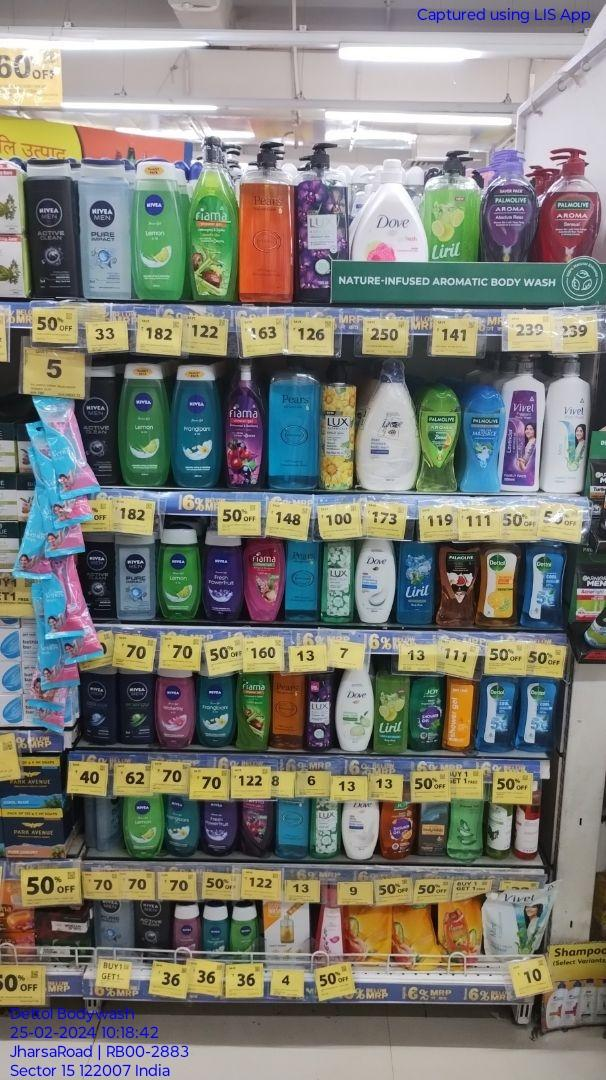Dettol_Bodywash_Cool: (522, 542, 568, 631), (519, 676, 559, 752), (477, 678, 514, 751)
Dettol_Bodywash_Refresh: (477, 541, 517, 627)
Dove_Deep_Moisture_Body_Wash_250ML: (357, 539, 396, 625)
Dove_Refreshing_Body_Wash_250ML: (336, 669, 374, 751)
Fiama_Shower_Gel_Patchouli_and_Macadamia_250ML: (246, 538, 282, 622)
Joy_Shower_Gel_Mint_and_Eucalyptus_250ML: (412, 674, 442, 751)
Liril_Cooling_Mint_Body_Wash_250ML: (399, 543, 435, 624)
Liril_Lime_and_Tea_Tree_Oil_Body_Wash_250ML: (376, 668, 408, 754)
Lux_Black_Orchid_Scent_and_Juniper_Oil_Body_Wash_245ML: (309, 675, 334, 751)
Lux_Body_Wash_Skin_Detox_Freesia_Scent_and_Alove_Vera_245ML: (323, 542, 354, 622)
Nivea_Shower_Gel_Frangipani_and_Oil_250ML: (173, 364, 223, 487), (198, 674, 234, 746)
Nivea_Shower_Gel_Fresh_Powerfruit_250ML: (204, 529, 240, 619)
Nivea_Shower_Gel_Lemon_and_Oil_250ML: (120, 365, 166, 489), (158, 528, 199, 618)
Nivea_Shower_Gel_Waterlily_and_Oil_250ML: (157, 670, 195, 747)
Palmolive_Aroma_Moments_Feel_The_Massage_Shower_Gel_250ML: (465, 382, 506, 493)
Palmolive_Aroma_Morning_Tonic_Shower_Gel_250ML: (419, 387, 459, 494)
Palmolive_Luminous_Oils_With_White_Orchid_Shower_Gel_250ML: (437, 544, 476, 629)
Pears_Pure_Glycerin_and_Mint_Extracts_Body_Wash_250ML: (287, 538, 320, 622)
